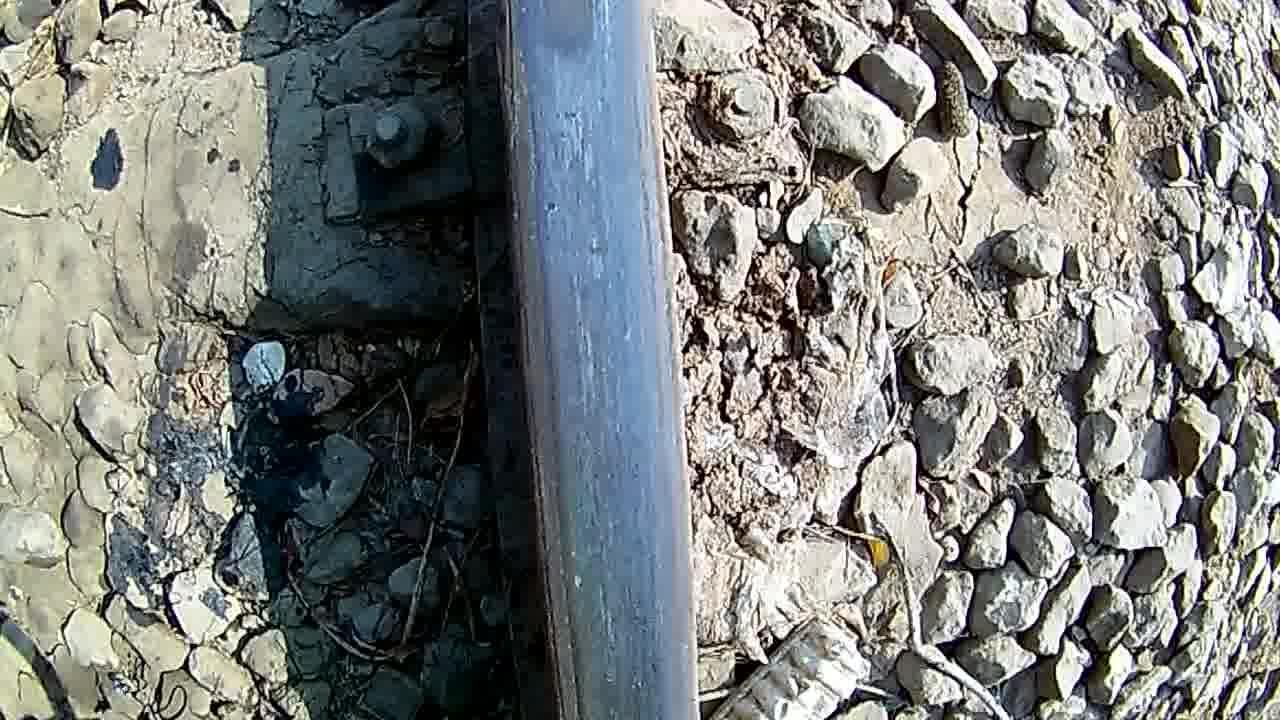crack: (502, 0, 635, 190)
